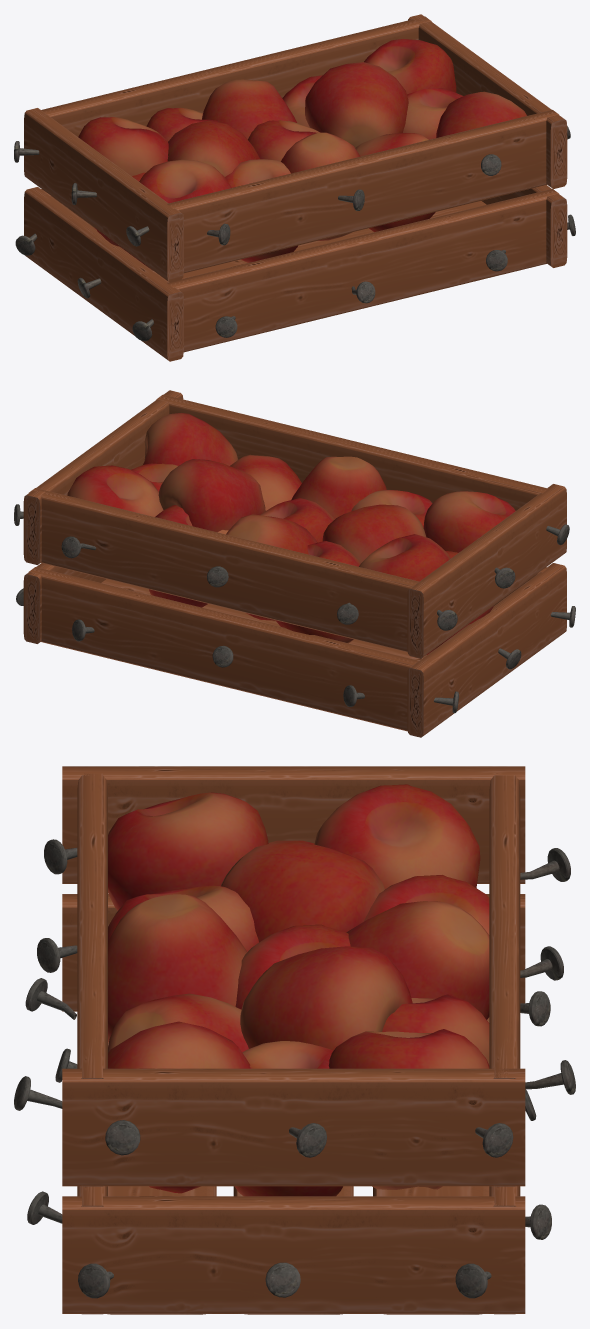
Rendered from SM_Apple_02.fbx.
The picture shows the model from 3 angles, top to bottom: view 1: azimuth 30°, elevation 25°; view 2: azimuth 150°, elevation 25°; view 3: azimuth 270°, elevation 25°; orthographic projection. The views are drawn at different scales.
Visible parts, largest first — view 1: SM_Apple_02_LOD0; view 2: SM_Apple_02_LOD0; view 3: SM_Apple_02_LOD0.
Boxes of the visible parts, x1,y1,x2,y2 form: SM_Apple_02_LOD0: [14, 14, 575, 361]; SM_Apple_02_LOD0: [14, 390, 575, 737]; SM_Apple_02_LOD0: [14, 766, 575, 1314].
Size of the model in its own units: 254 by 173 by 90.71.
Materials: 2 (2 with a texture image).
